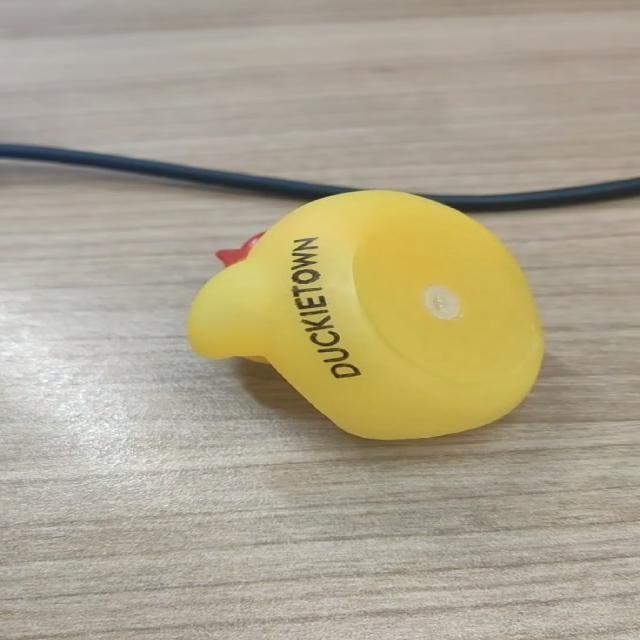rubber-duck: (188, 190, 541, 437)
